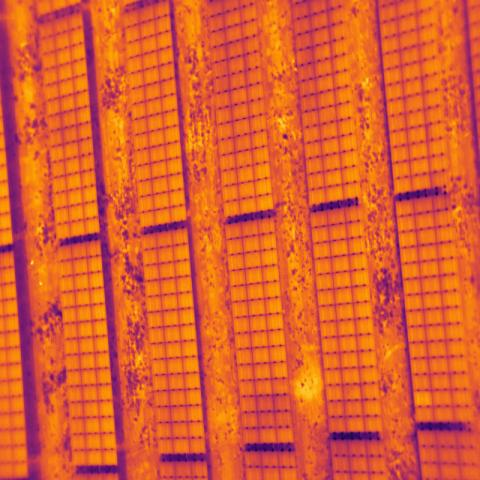fault: (413, 390, 433, 409)
